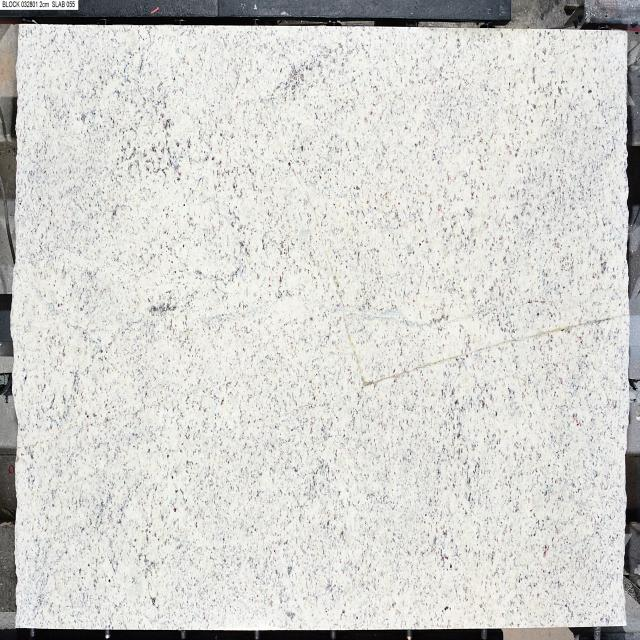chapa: (11, 25, 629, 630)
